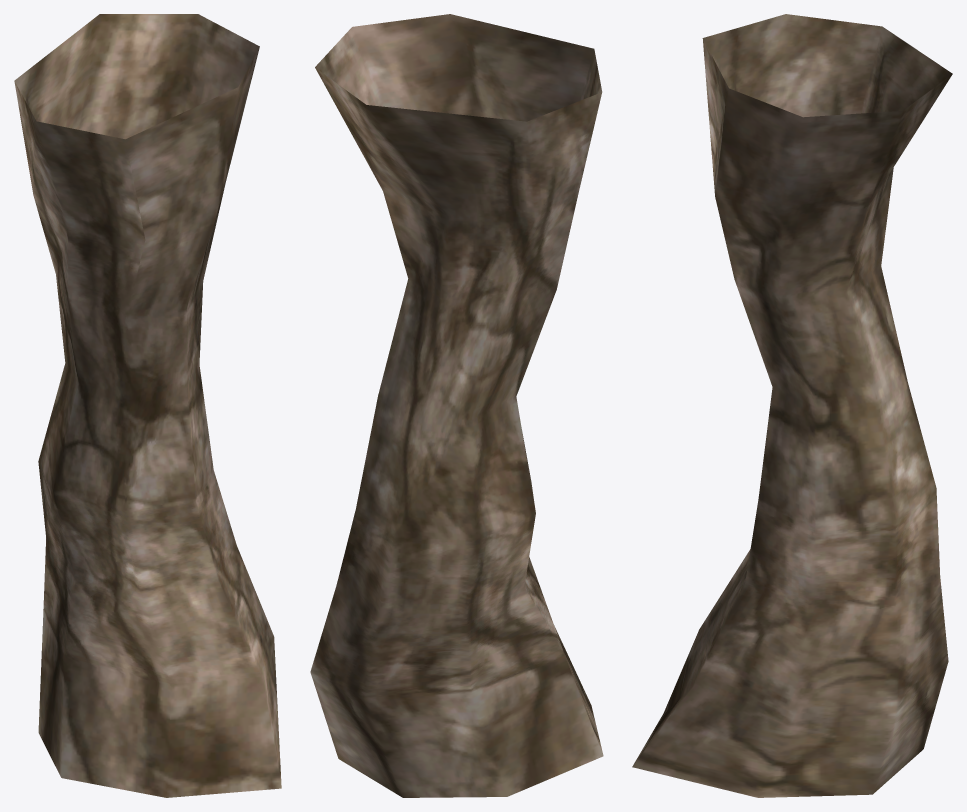
The model's file is EKH_THRONE_PS_TH_CYLINDER07.fbx.
3 renders of one model, left to right at view 1: azimuth 30°, elevation 25°; view 2: azimuth 150°, elevation 25°; view 3: azimuth 270°, elevation 25°, orthographic. The views are drawn at different scales.
Visible parts, largest first — view 1: EKH_THRONE_PS_TH_CYLINDER07; view 2: EKH_THRONE_PS_TH_CYLINDER07; view 3: EKH_THRONE_PS_TH_CYLINDER07.
Boxes of the visible parts, bbox=[...] form: EKH_THRONE_PS_TH_CYLINDER07: bbox=[14, 14, 281, 797]; EKH_THRONE_PS_TH_CYLINDER07: bbox=[310, 14, 603, 797]; EKH_THRONE_PS_TH_CYLINDER07: bbox=[632, 14, 952, 797].
Size of the model in its own units: 28277 by 75597 by 31956.
Materials: 1 (1 with a texture image).
